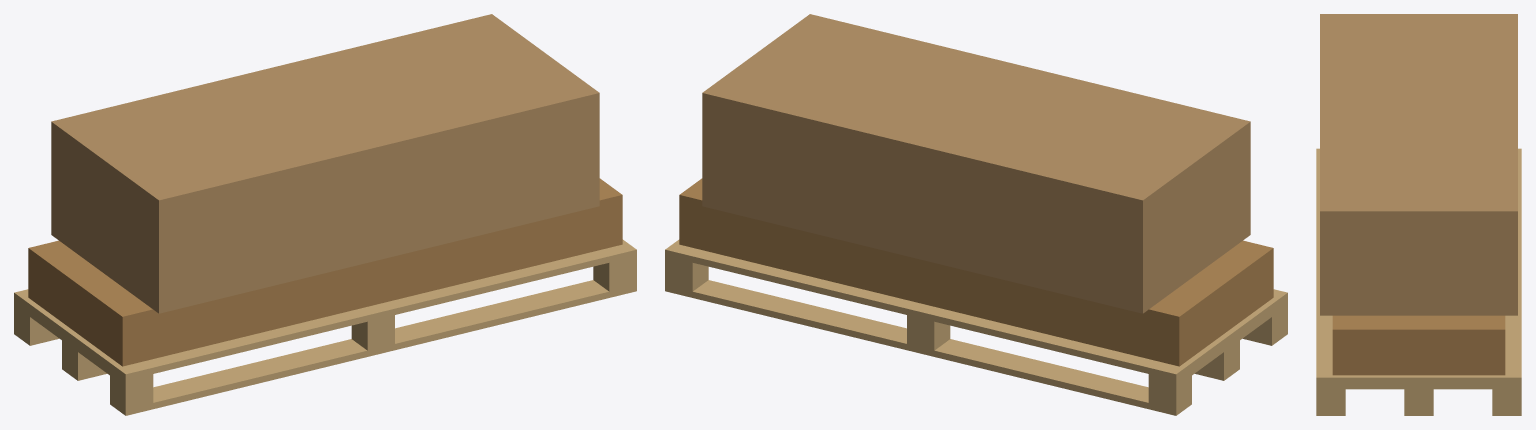
The model's file is serra180_pallet.glb.
3 renders of one model, left to right at view 1: azimuth 30°, elevation 25°; view 2: azimuth 150°, elevation 25°; view 3: azimuth 270°, elevation 25°, orthographic. The views are drawn at different scales.
Visible parts, largest first — view 1: carton_7, carton_11, bundle_0, bundle_2, pallet_0, carton_5, carton_6, carton_4, pallet_15, carton_8, carton_9, carton_10 (+8 smaller); view 2: carton_7, carton_11, bundle_1, bundle_3, pallet_2, carton_5, carton_6, carton_4, pallet_21, carton_8, carton_9, carton_10 (+8 smaller); view 3: carton_11, carton_7, carton_8, carton_9, carton_10, bundle_2, bundle_3, bundle_0, bundle_1, pallet_15, pallet_21, pallet_14 (+8 smaller).
Part boxes in pixels (box(x1,y1,x2,y2)): carton_7: box(51, 68, 379, 228); carton_11: box(272, 14, 599, 174); bundle_0: box(75, 219, 622, 366); bundle_2: box(75, 178, 622, 341); pallet_0: box(110, 280, 636, 415); carton_5: box(51, 178, 379, 285); carton_6: box(51, 150, 379, 256); carton_4: box(51, 207, 379, 313); pallet_15: box(110, 239, 636, 380); carton_8: box(379, 178, 599, 259); carton_9: box(379, 149, 599, 231); carton_10: box(379, 121, 599, 203); carton_7: box(922, 68, 1250, 228); carton_11: box(702, 14, 1029, 174); bundle_1: box(679, 219, 1226, 366); bundle_3: box(679, 178, 1226, 341); pallet_2: box(665, 280, 1191, 415); carton_5: box(922, 178, 1250, 285); carton_6: box(922, 150, 1250, 256); carton_4: box(922, 207, 1250, 313); pallet_21: box(665, 239, 1191, 380); carton_8: box(702, 178, 922, 259); carton_9: box(702, 149, 922, 231); carton_10: box(702, 121, 922, 203); carton_11: box(1320, 112, 1517, 237); carton_7: box(1320, 14, 1517, 112); carton_8: box(1320, 289, 1517, 315); carton_9: box(1320, 263, 1517, 289); carton_10: box(1320, 237, 1517, 263); bundle_2: box(1332, 315, 1418, 352); bundle_3: box(1419, 315, 1505, 352); bundle_0: box(1332, 352, 1418, 375); bundle_1: box(1419, 352, 1505, 375); pallet_15: box(1316, 148, 1345, 383); pallet_21: box(1492, 148, 1521, 383); pallet_14: box(1316, 383, 1521, 389).
Bounding box in the file's own units: 1.85 × 0.711 × 0.7.
